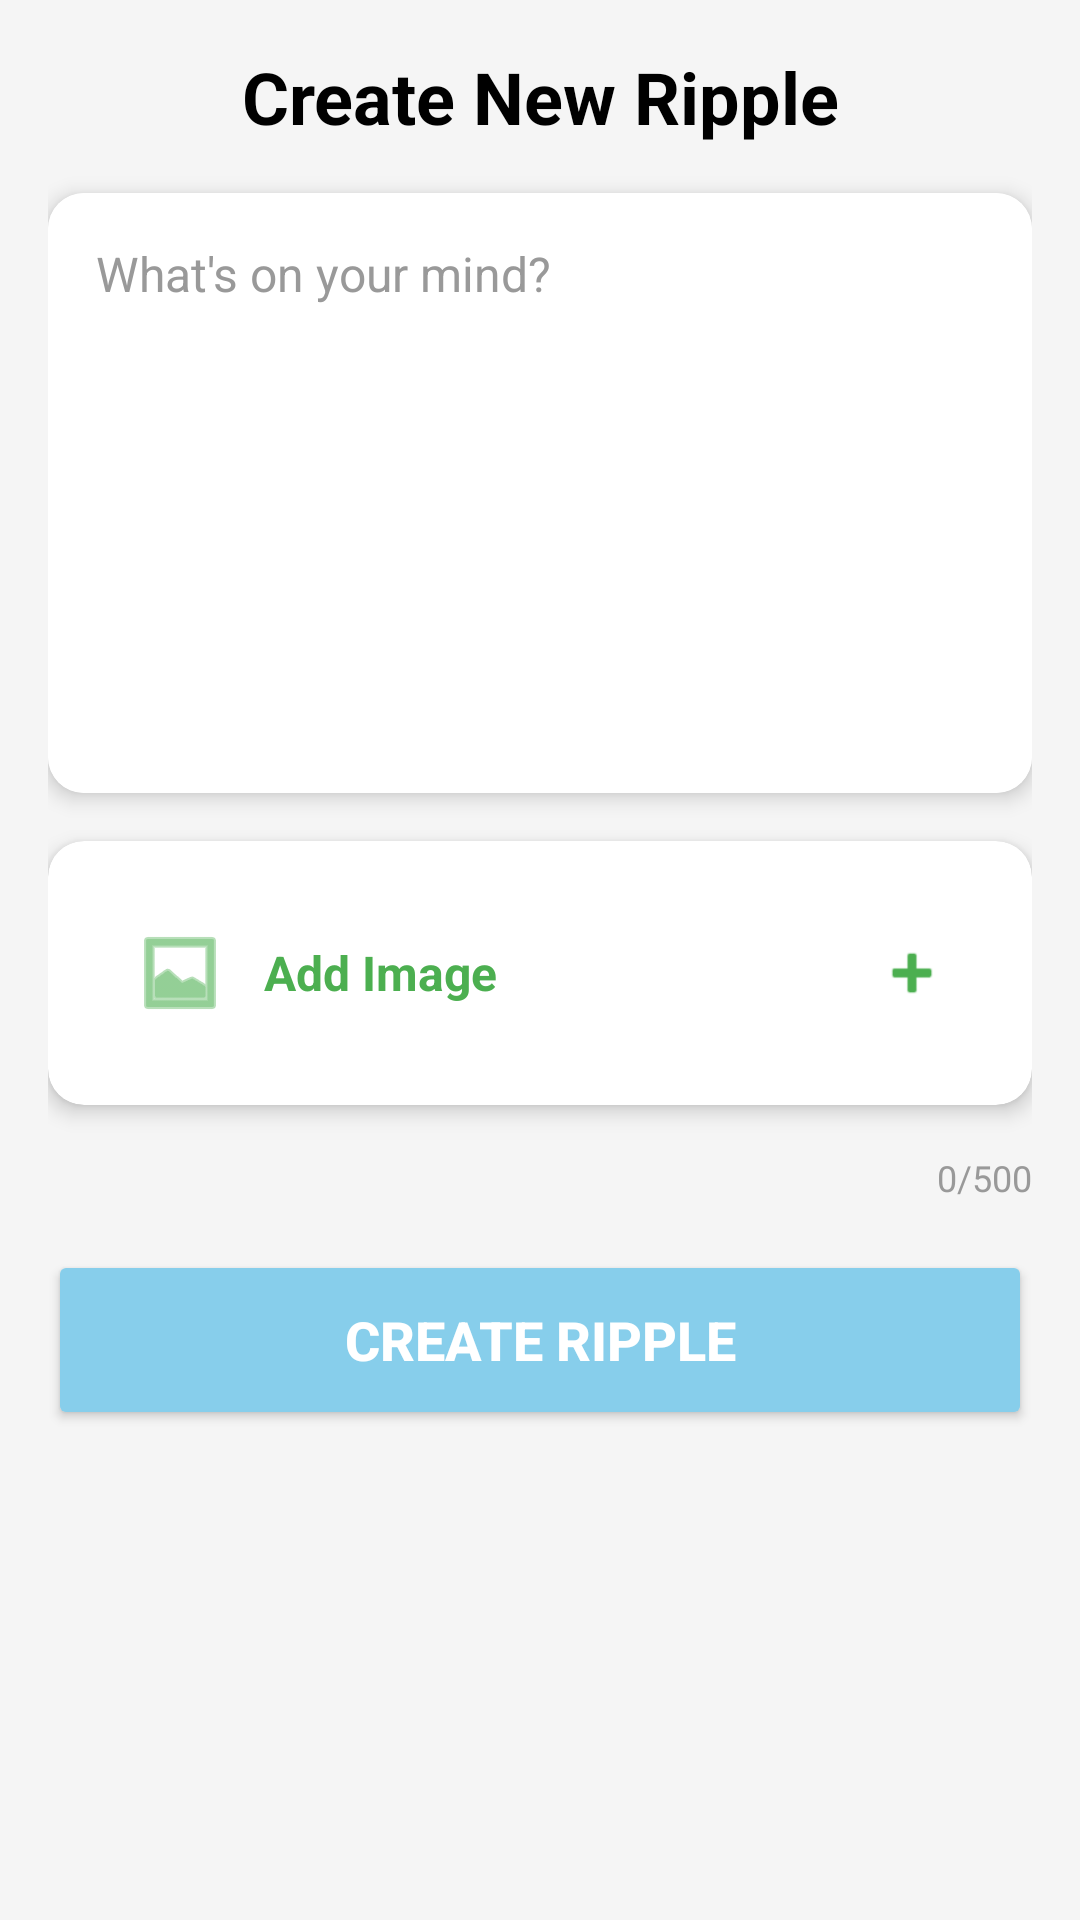

Locate icon controls on the screen. Image size 1080w x 1920h, boxes as box=[x1, y1, x2, y2].
gallery: box=[144, 937, 216, 1009]
